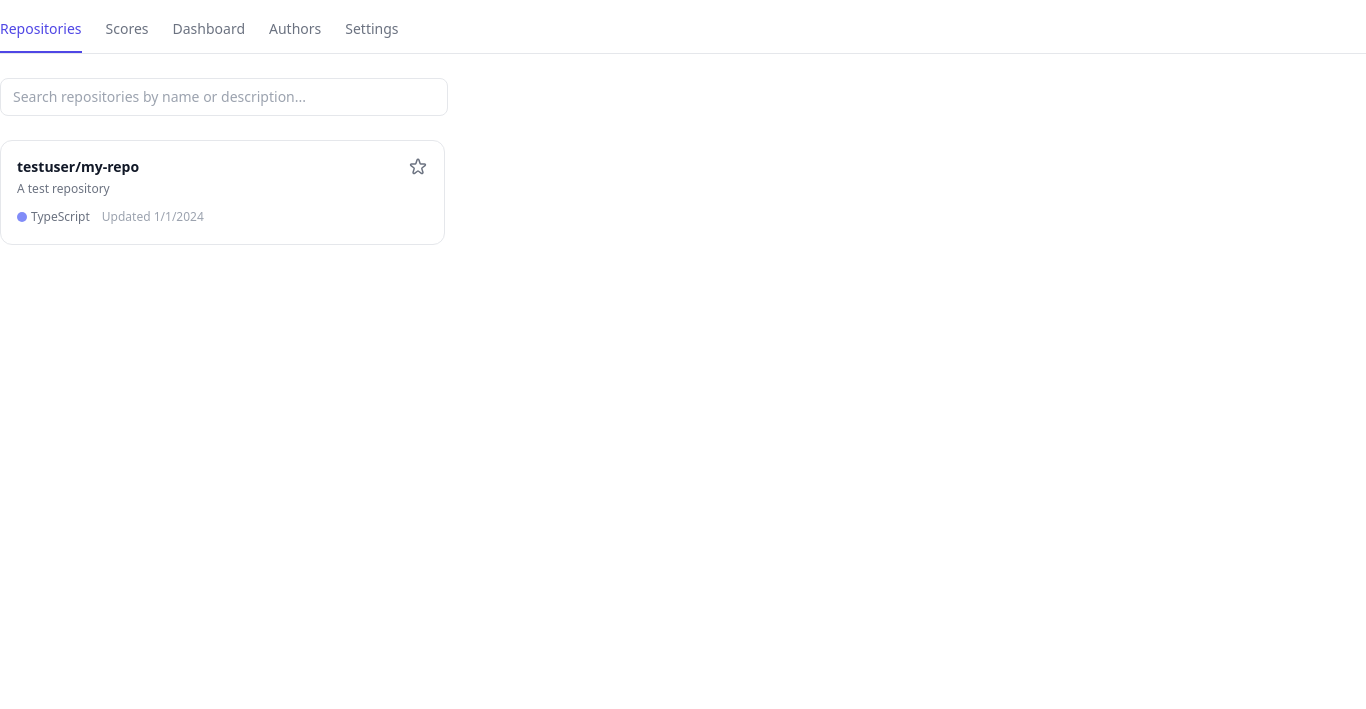
Test case: PrScores › with feature flags enabled — detail view › shows Re-Score button
Click the heading "testuser/my-repo" at point(78, 167), box [17, 157, 139, 177]
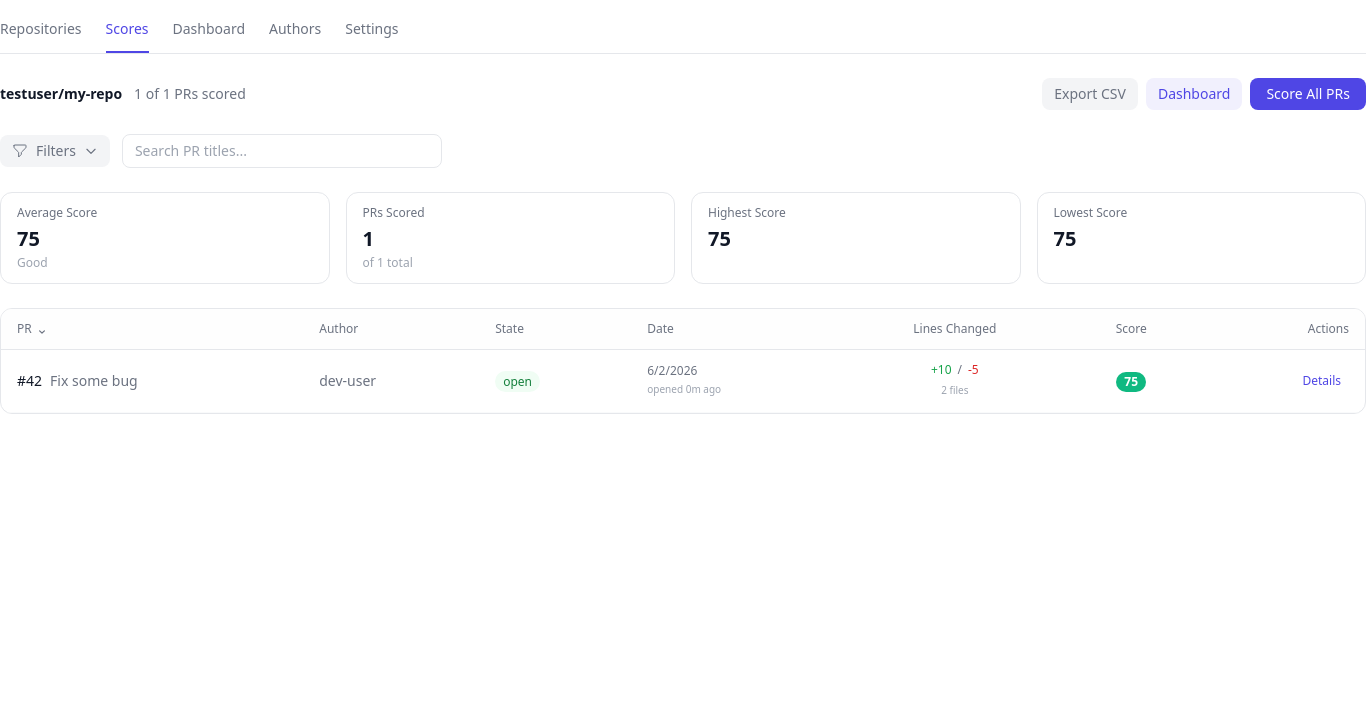
Check: the text "1 of 1 PRs scored" is shown, box [134, 84, 246, 104]
Click the button "Details" at point(1322, 381), box [1294, 369, 1349, 393]
(page scrolled)
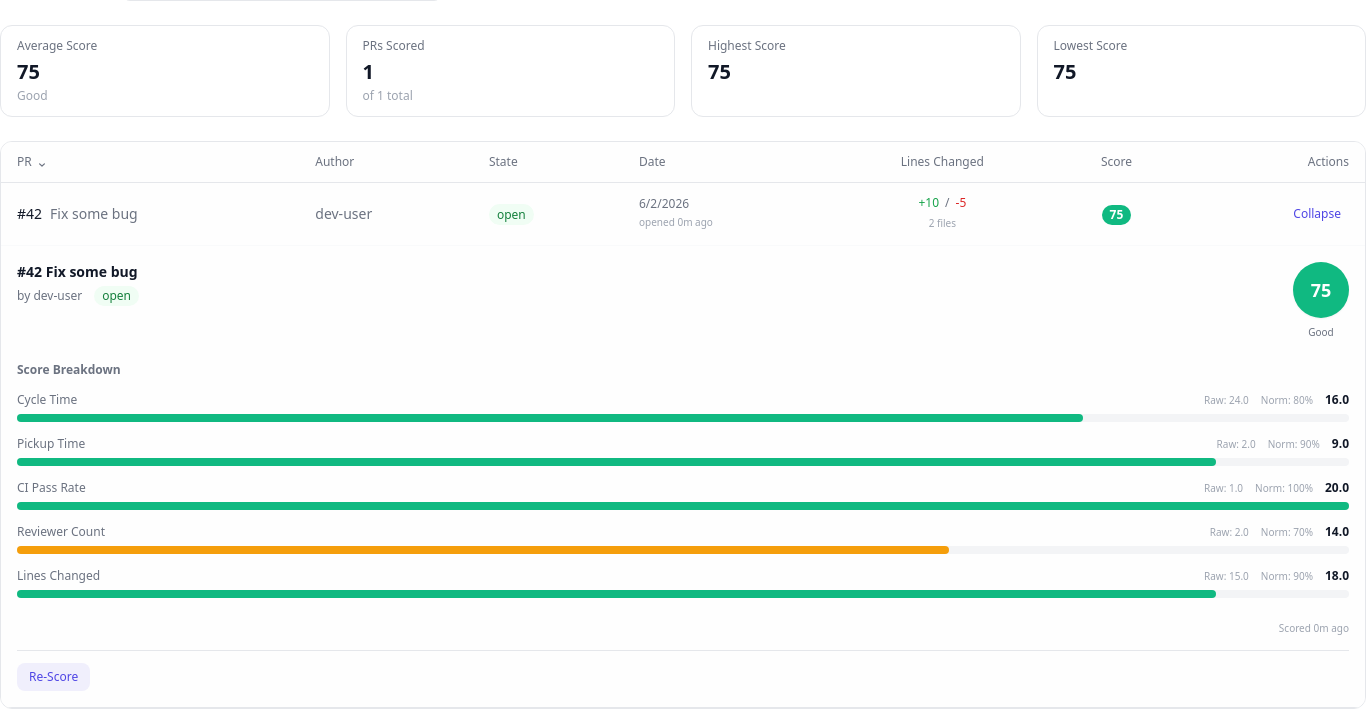
Check: the heading "Score Breakdown" is shown, box [17, 361, 121, 378]
Check: the button "Re-Score" is shown, box [17, 663, 90, 691]
